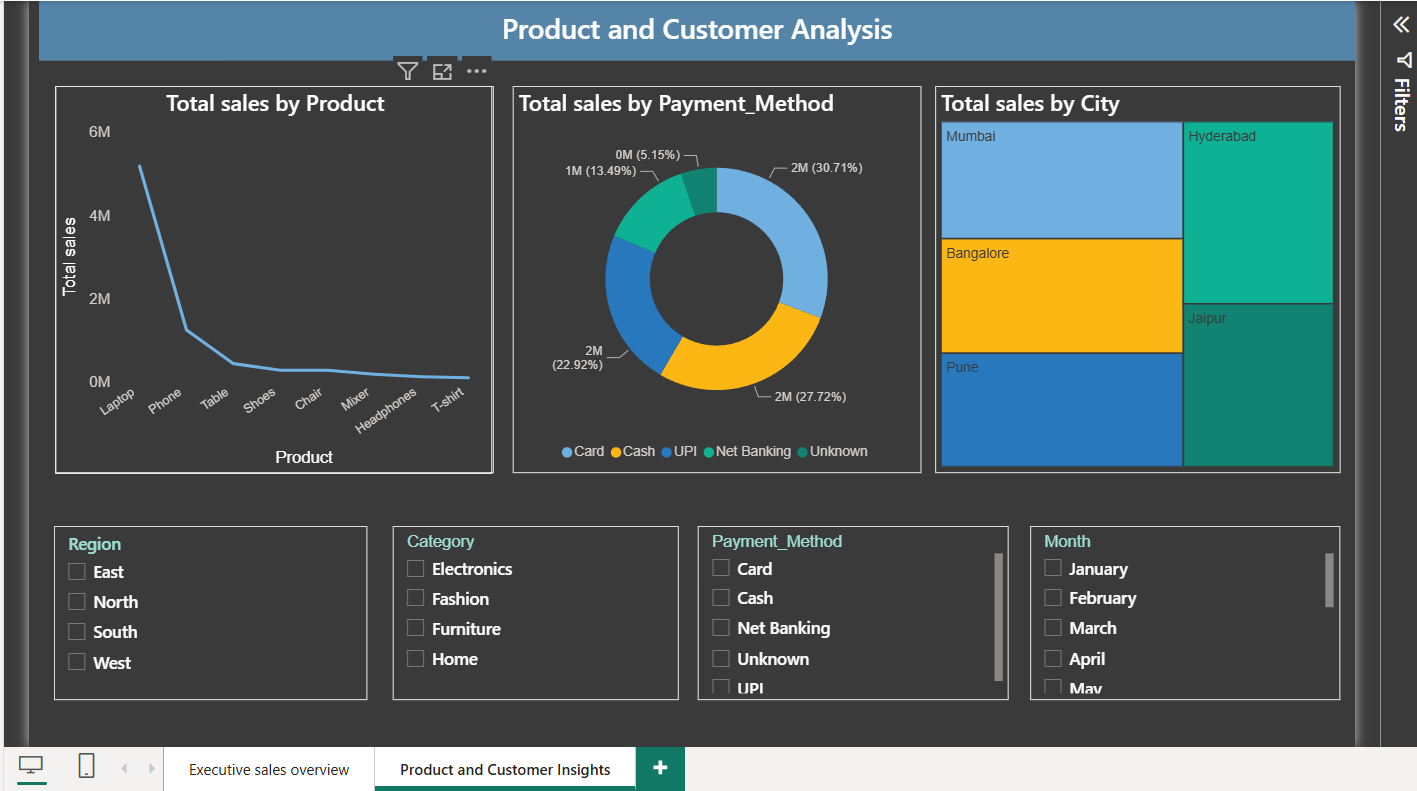

This screenshot's page, from the dashboard's own definition file:
{"tool":"powerbi","page":{"name":"Product and Customer Insights","canvas":[1280,720],"ordinal":1},"visuals":[{"type":"textbox","box":[10.1,0,1270.2,57.7],"z":0},{"type":"lineChart","fields":{"Category":["Retail_sales_analysis - Sheet1.Product"],"Y":["Retail_sales_analysis - Sheet1.Total sales"]},"box":[24.8,81.8,423.4,373.7],"z":6000},{"type":"donutChart","fields":{"Category":["Retail_sales_analysis - Sheet1.Payment_Method"],"Y":["Retail_sales_analysis - Sheet1.Total sales"]},"box":[467.2,81.8,394.2,373.7],"z":7000},{"type":"treemap","fields":{"Group":["Retail_sales_analysis - Sheet1.City"],"Values":["Retail_sales_analysis - Sheet1.Total sales"]},"box":[874.7,82.1,390.8,373.7],"z":8000},{"type":"slicer","fields":{"Values":["Retail_sales_analysis - Sheet1.Region"]},"box":[24.5,507.2,302.6,167.8],"z":9000},{"type":"slicer","fields":{"Values":["Retail_sales_analysis - Sheet1.Category"]},"box":[351.6,507.2,275.7,167.8],"z":10000},{"type":"slicer","fields":{"Values":["Retail_sales_analysis - Sheet1.Payment_Method"]},"box":[645.6,507.2,300.2,167.8],"z":11000},{"type":"slicer","fields":{"Values":["Retail_sales_analysis - Sheet1.Order_Date.Variation.Date Hierarchy.Month"]},"box":[966.6,507.2,298.9,167.8],"z":12000}]}

Visuals, with their boxes on the page's 1280x720 design canvas (x1, y1, x2, y2). These are canvas units, not pixel positions in the 1417x791 screenshot, which may show the page scaled, cropped or inside an application window:
textbox: <region>10, 0, 1280, 58</region>
lineChart - Retail_sales_analysis - Sheet1.Product x Retail_sales_analysis - Sheet1.Total sales: <region>25, 82, 448, 456</region>
donutChart - Retail_sales_analysis - Sheet1.Payment_Method x Retail_sales_analysis - Sheet1.Total sales: <region>467, 82, 861, 456</region>
treemap - Retail_sales_analysis - Sheet1.City x Retail_sales_analysis - Sheet1.Total sales: <region>875, 82, 1266, 456</region>
slicer - Retail_sales_analysis - Sheet1.Region: <region>24, 507, 327, 675</region>
slicer - Retail_sales_analysis - Sheet1.Category: <region>352, 507, 627, 675</region>
slicer - Retail_sales_analysis - Sheet1.Payment_Method: <region>646, 507, 946, 675</region>
slicer - Retail_sales_analysis - Sheet1.Order_Date.Variation.Date Hierarchy.Month: <region>967, 507, 1266, 675</region>
